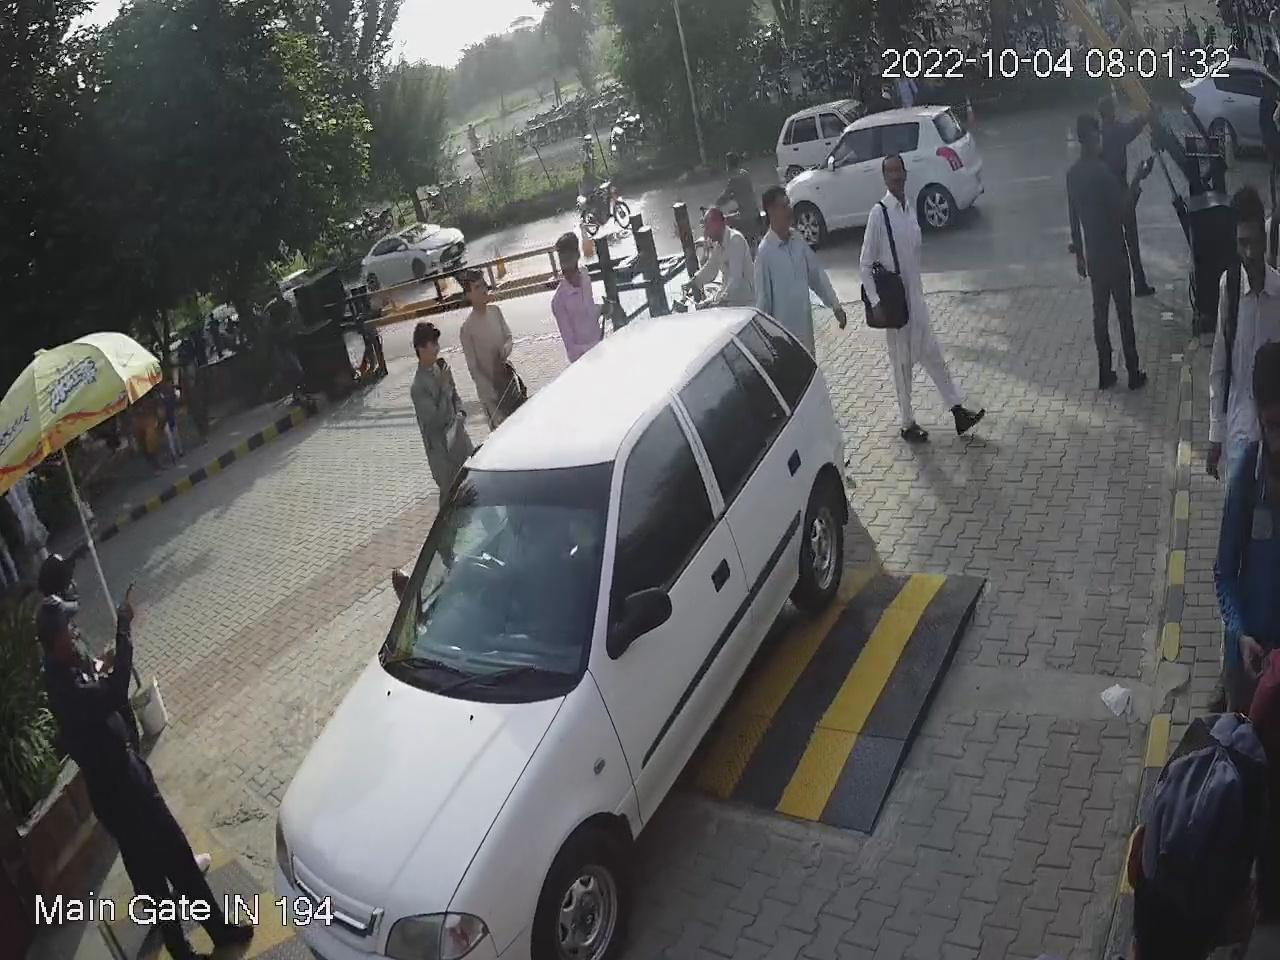windshield: (378, 450, 613, 700)
